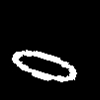chain: (12, 50, 76, 81)
